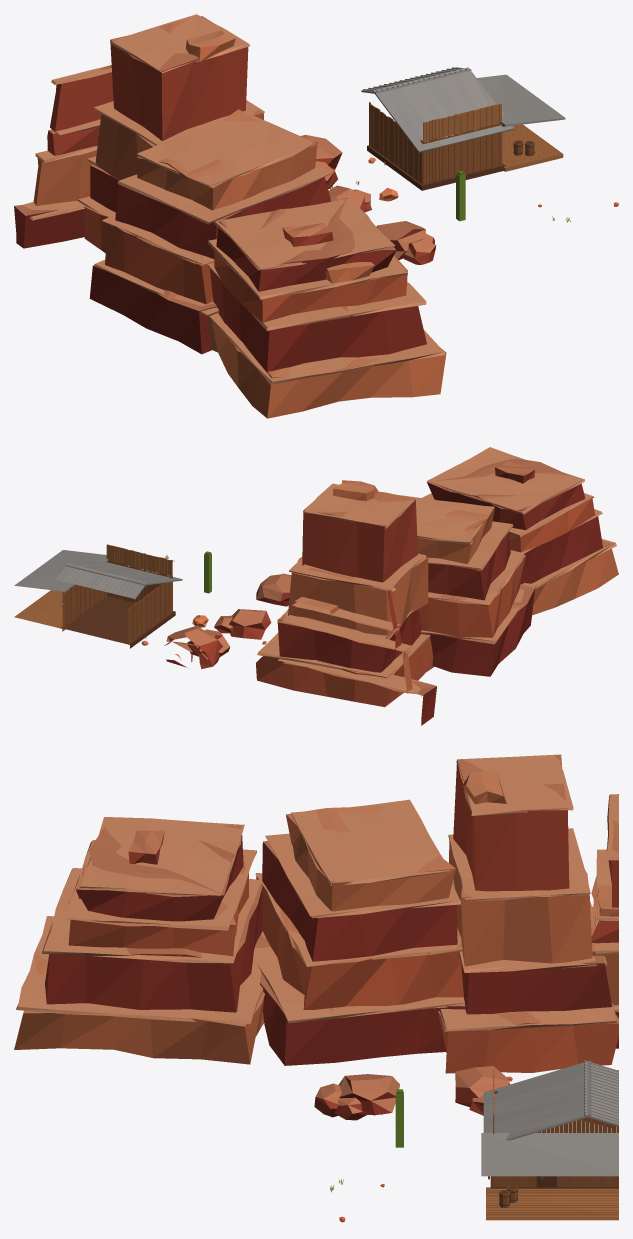
3 renders of one model, top to bottom at view 1: azimuth 30°, elevation 25°; view 2: azimuth 150°, elevation 25°; view 3: azimuth 270°, elevation 25°, orthographic. The views are drawn at different scales.
Visible parts, largest first — view 1: scene.3.4 (×2); view 2: scene.3.4 (×2); view 3: scene.3.4 (×2).
Boxes of the visible parts, <box> form: scene.3.4 (×2): <box>14,14,618,418</box>; scene.3.4 (×2): <box>14,447,618,725</box>; scene.3.4 (×2): <box>14,754,618,1222</box>.
Size of the model in its own units: 42.69 by 18.12 by 38.63.
